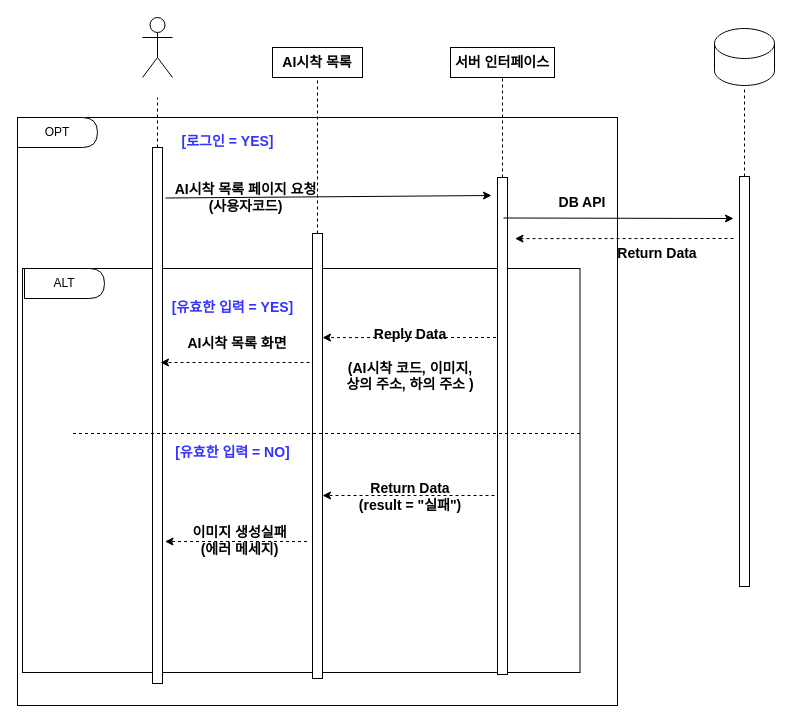
This 792x723 diagram has some shape labels left out. Each missing label, with the centre of its shape:
Server DB: point (744, 57)
구매자: point (157, 47)
